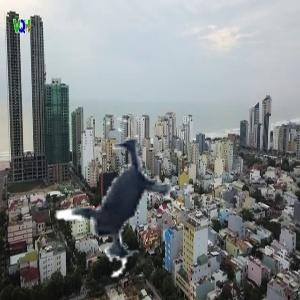drone: (24, 110, 206, 292)
